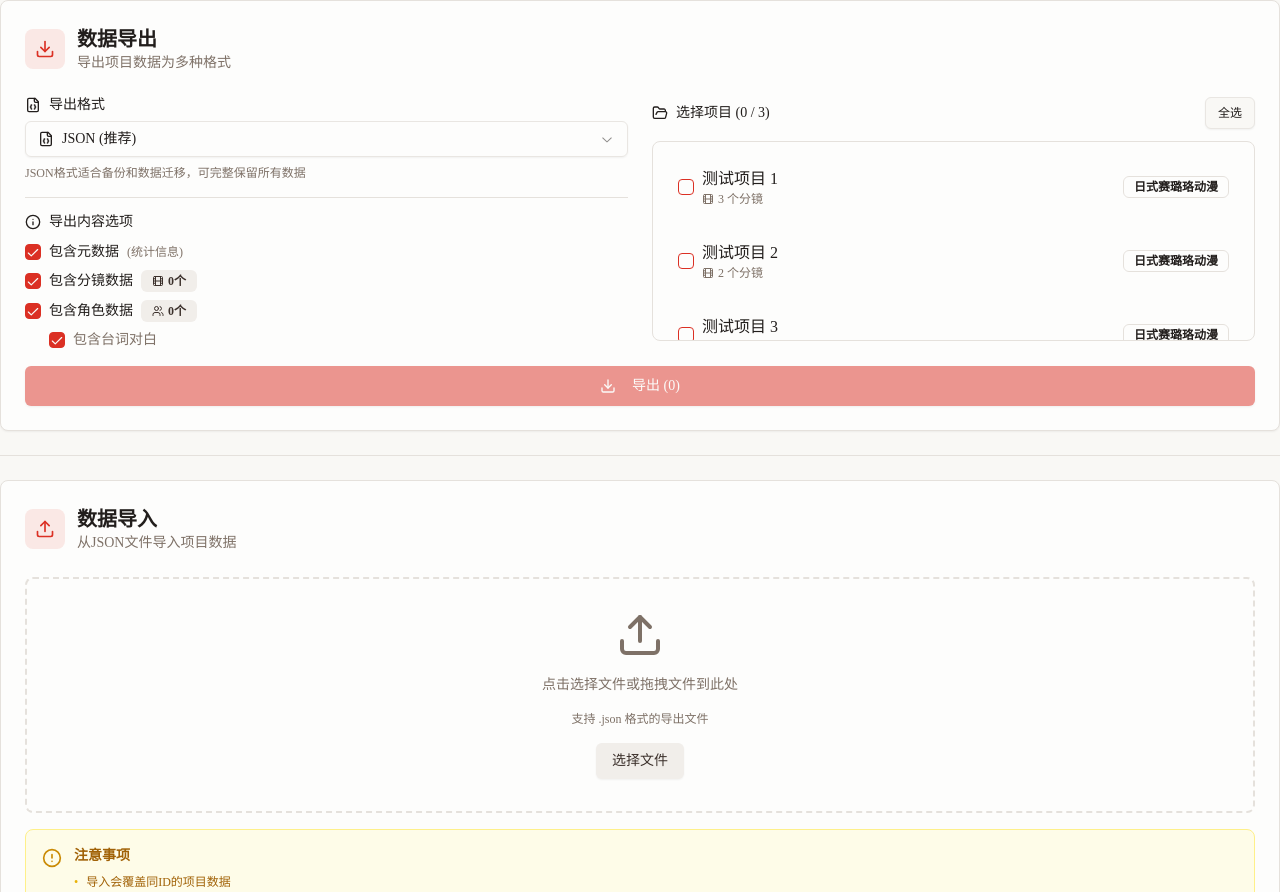
Test: DataExporter › 项目选择 › 应该能够取消全选
The width and height of the screenshot is (1280, 892).
Click the button "全选".
click(1230, 113)  # box [1205,97,1255,129]
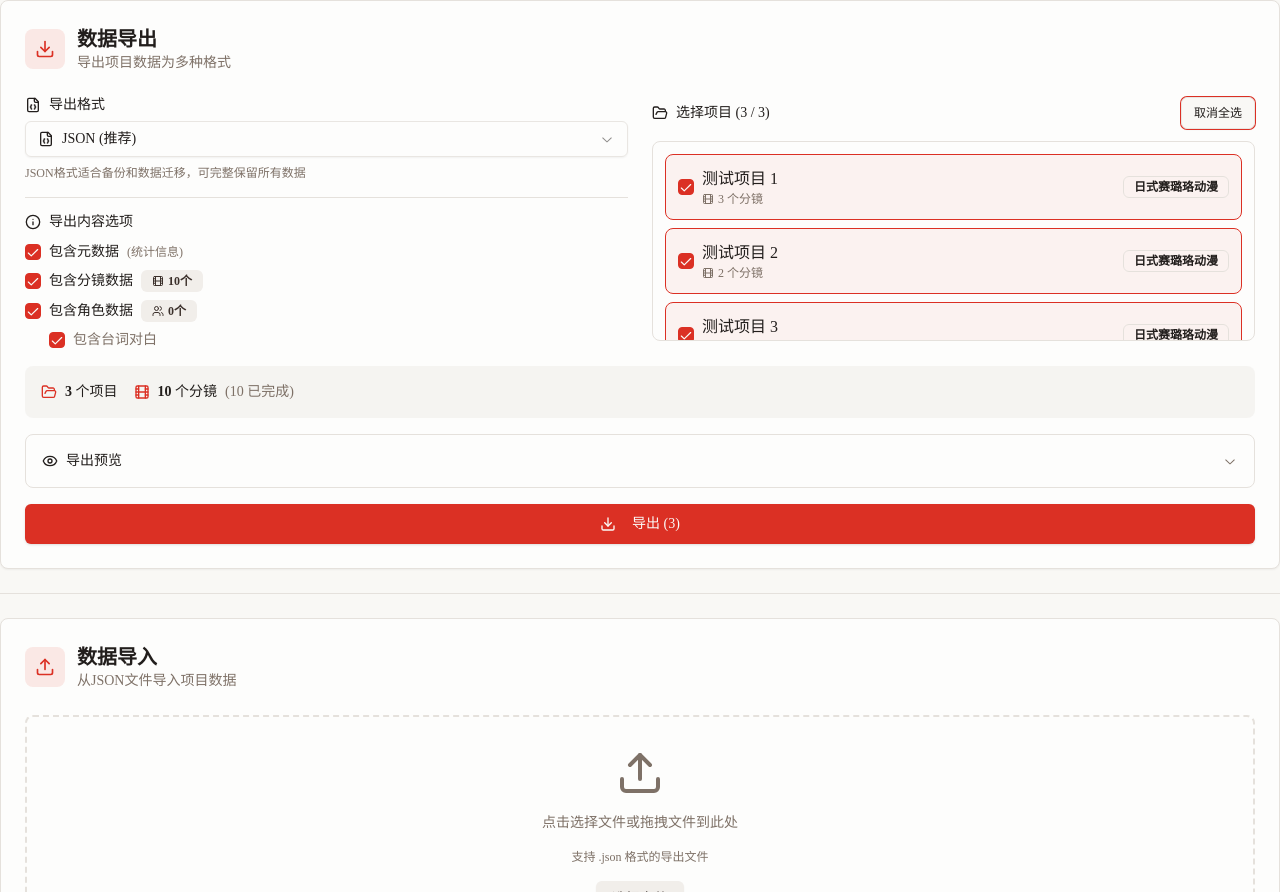
Now the text "选择项目 (3 / 3)" is shown, box [652,105,770,121]
Click the button "取消全选".
click(1218, 113)  # box [1181,97,1255,129]
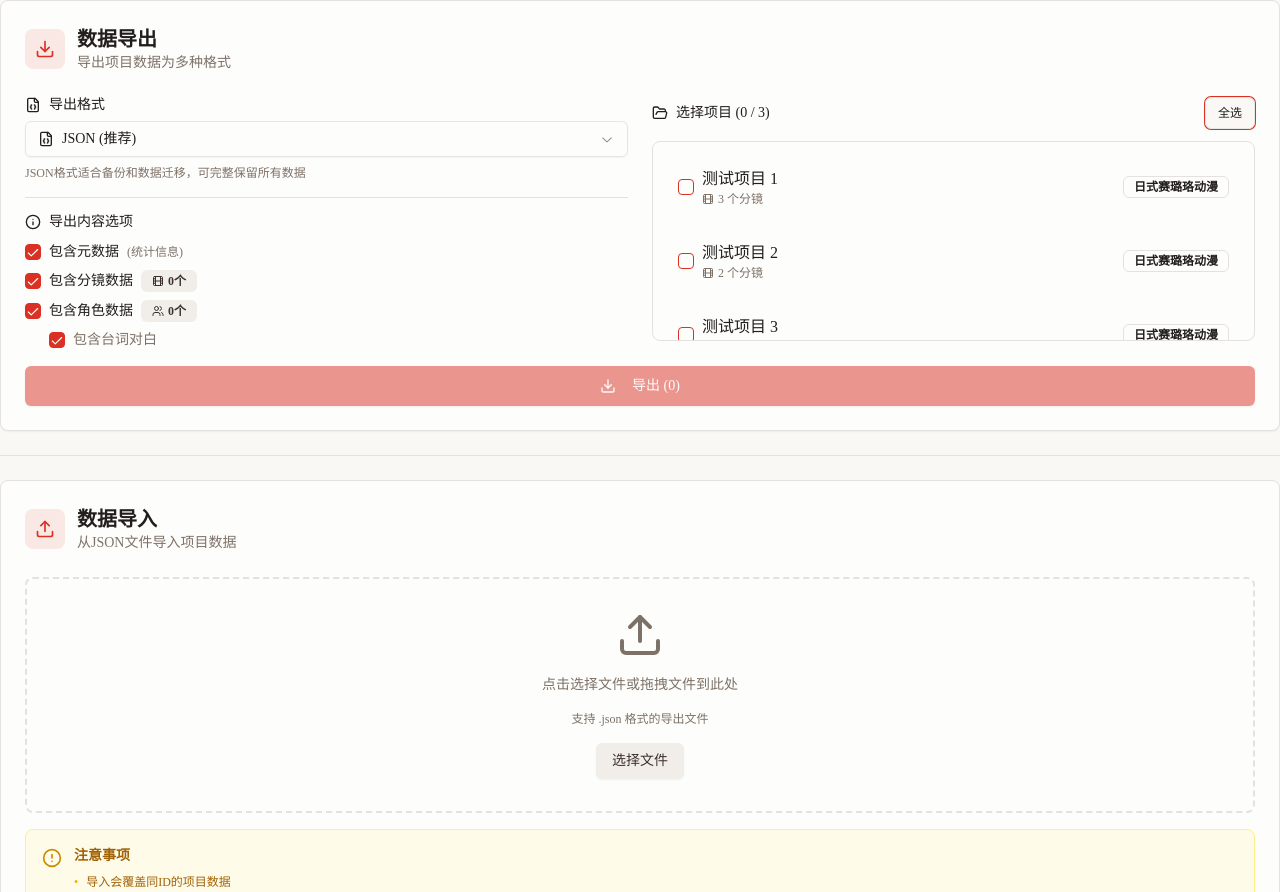
Now the text "选择项目 (0 / 3)" is shown, box [652,105,770,121]
